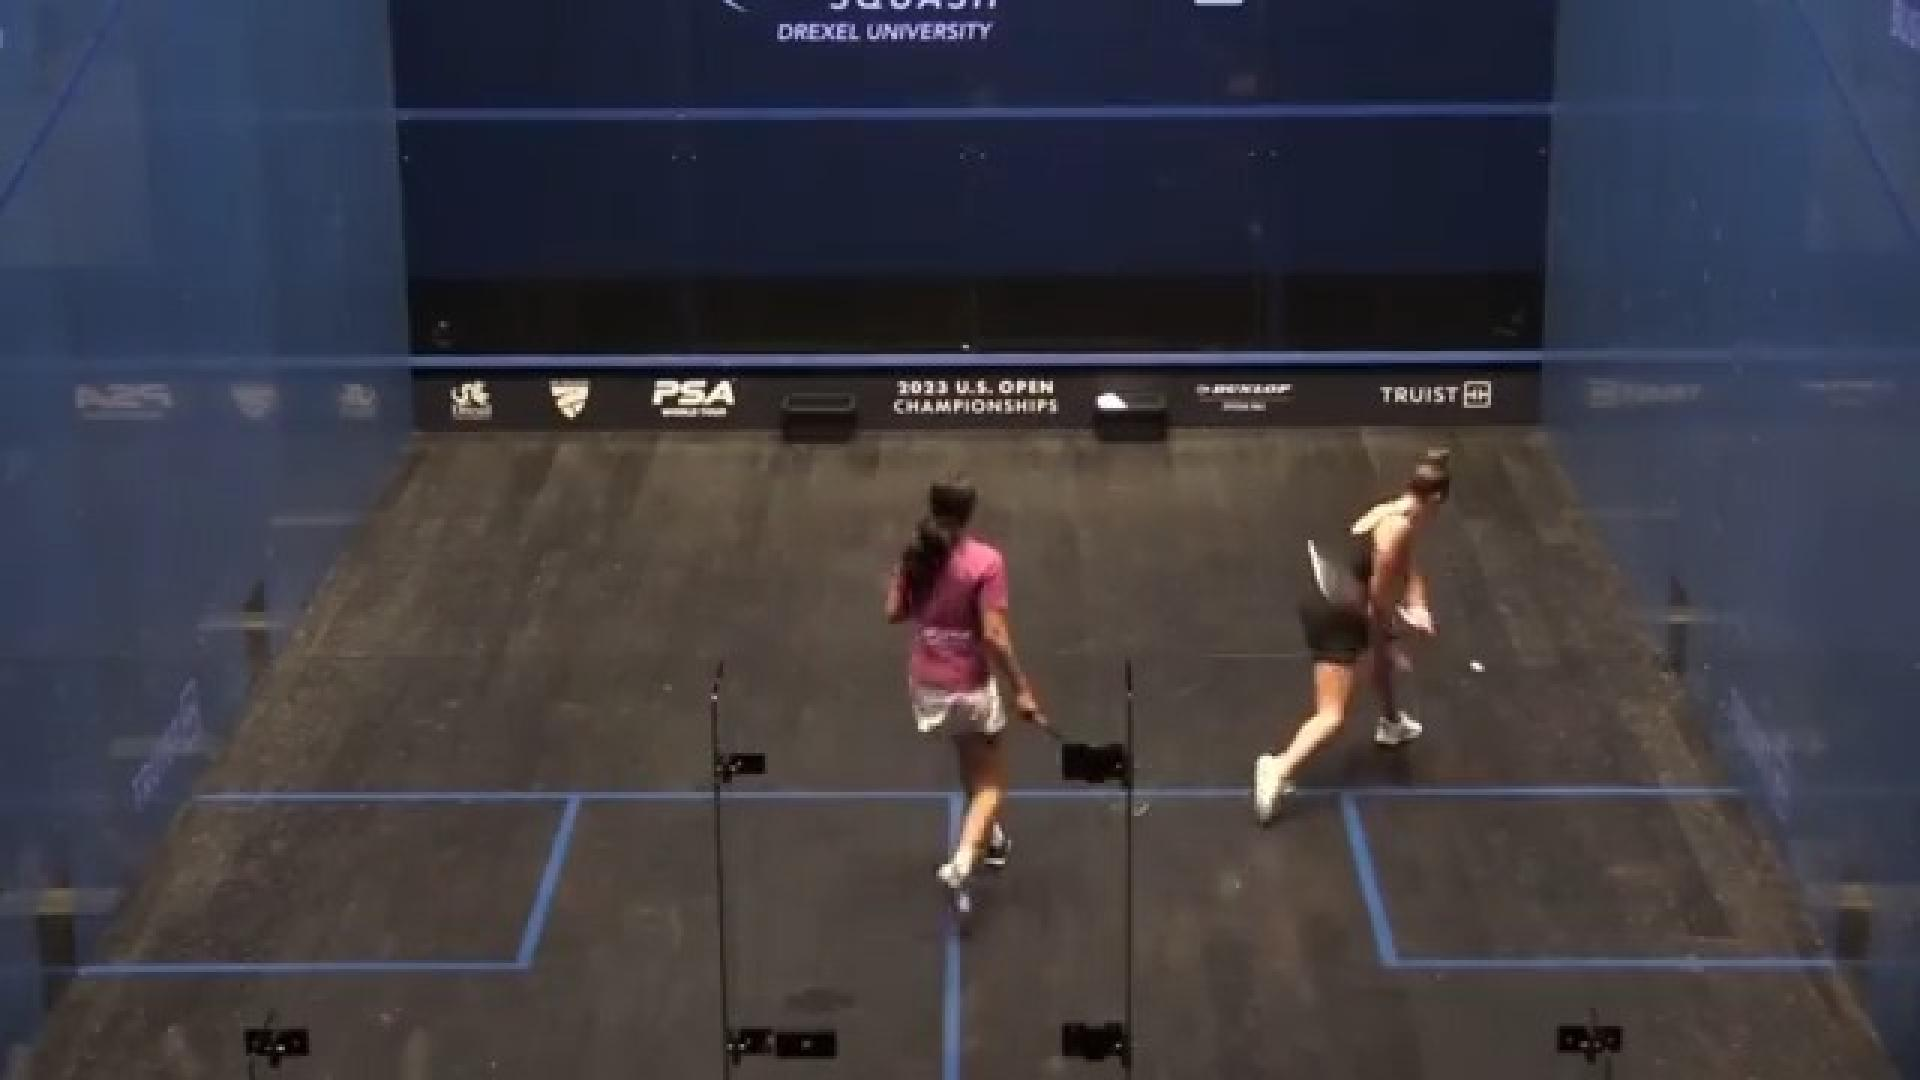Squash-Ball: (1458, 637, 1494, 696)
